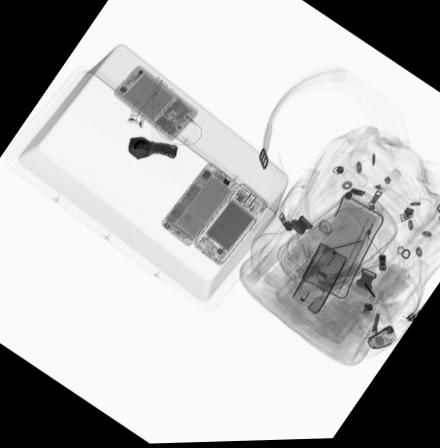Powerbank: (290, 240, 346, 315)
